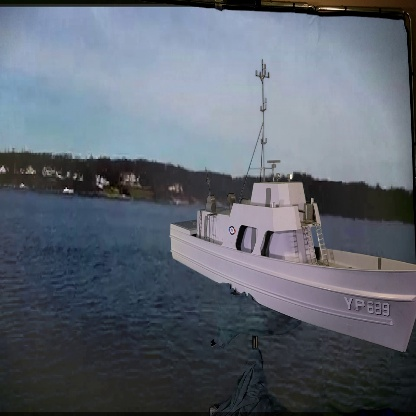YP689: (170, 59, 416, 355)
